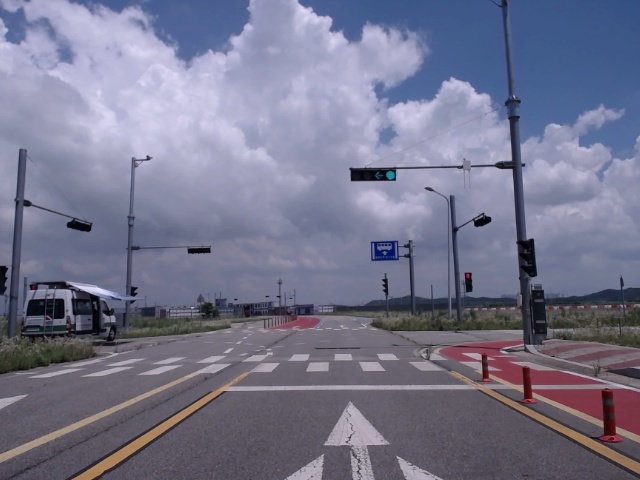all_green_4: (347, 169, 396, 181)
